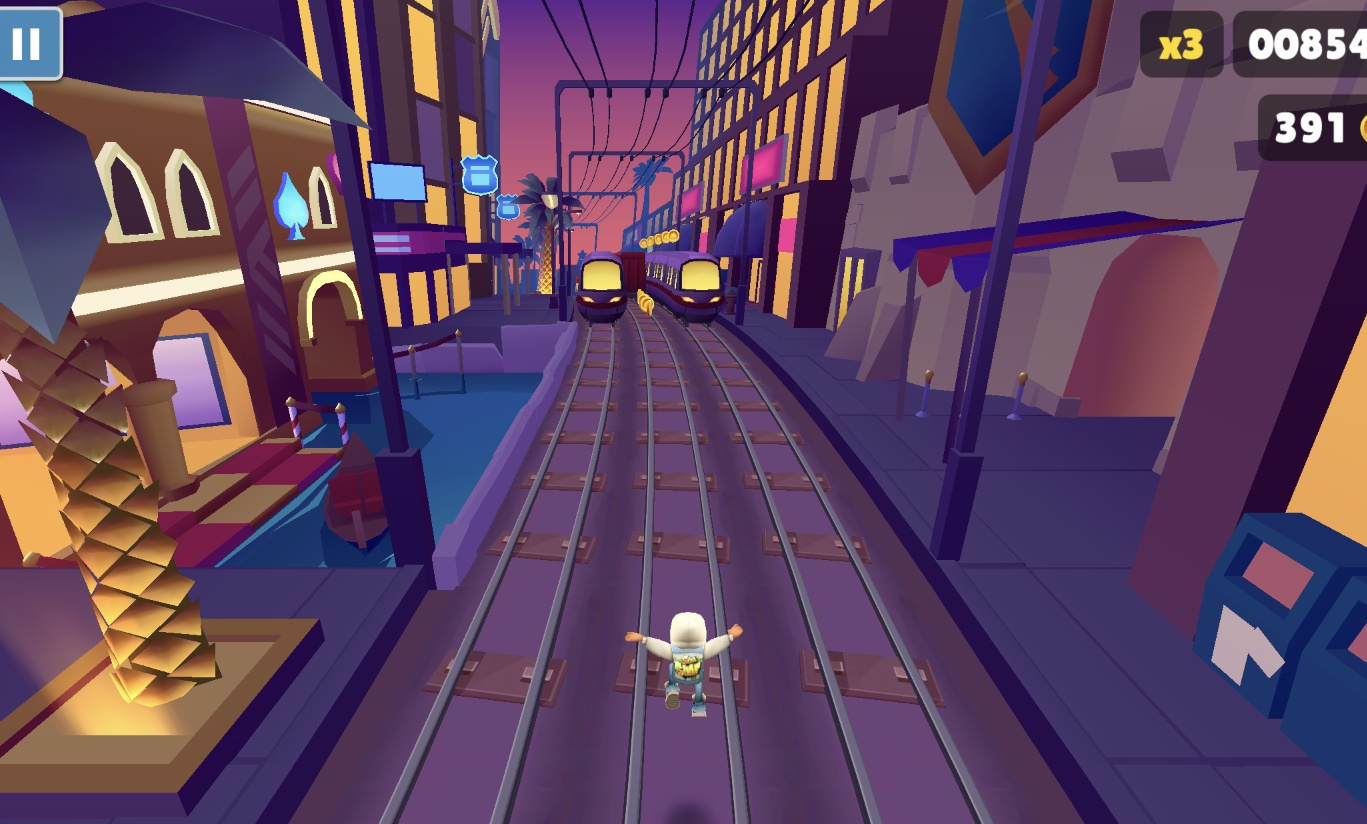train: (644, 251, 728, 323), (575, 252, 629, 325), (622, 252, 649, 297)
